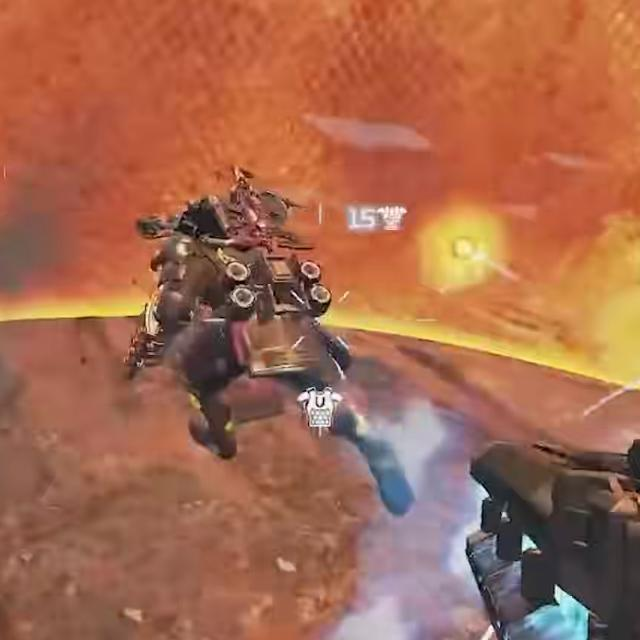avatar: (121, 190, 350, 467)
